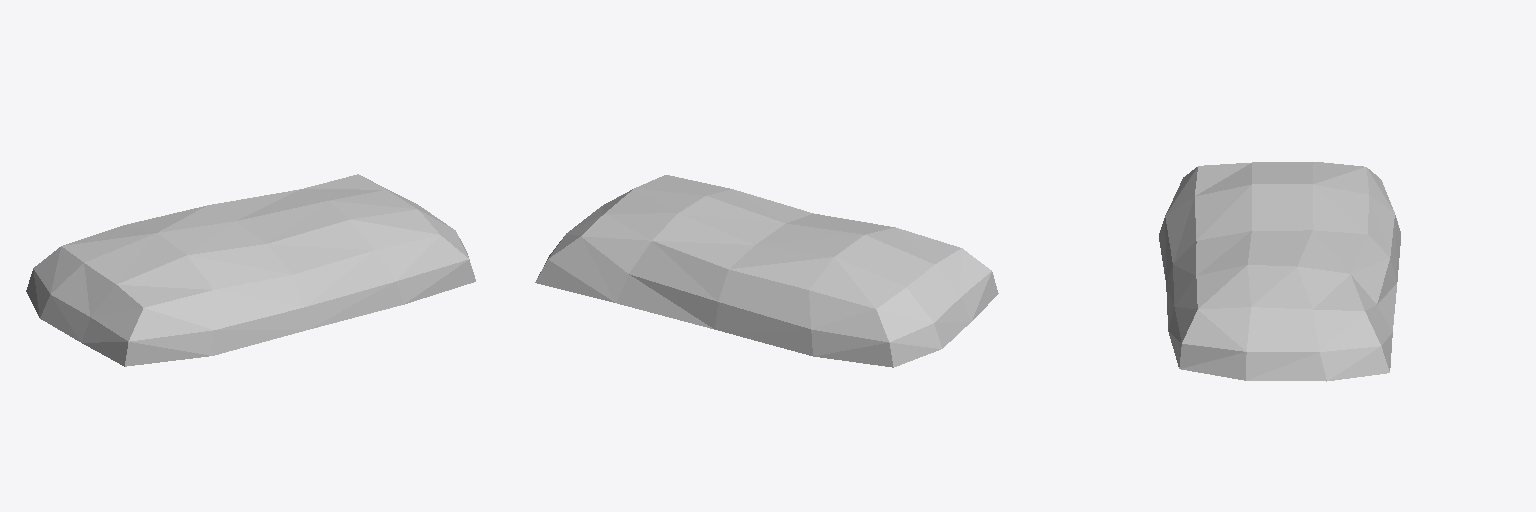
Rendered from Grave_8_2.obj.
The picture shows the model from 3 angles: view 1: azimuth 30°, elevation 25°; view 2: azimuth 150°, elevation 25°; view 3: azimuth 270°, elevation 25°; orthographic projection.
Parts seen in each view (by area): view 1: Grave_8_2; view 2: Grave_8_2; view 3: Grave_8_2.
Part boxes in pixels (bbox=[...]): Grave_8_2: bbox=[26, 174, 475, 366]; Grave_8_2: bbox=[535, 175, 998, 367]; Grave_8_2: bbox=[1159, 162, 1400, 381].
Bounding box in the file's own units: 1.97 × 0.3012 × 1.06.